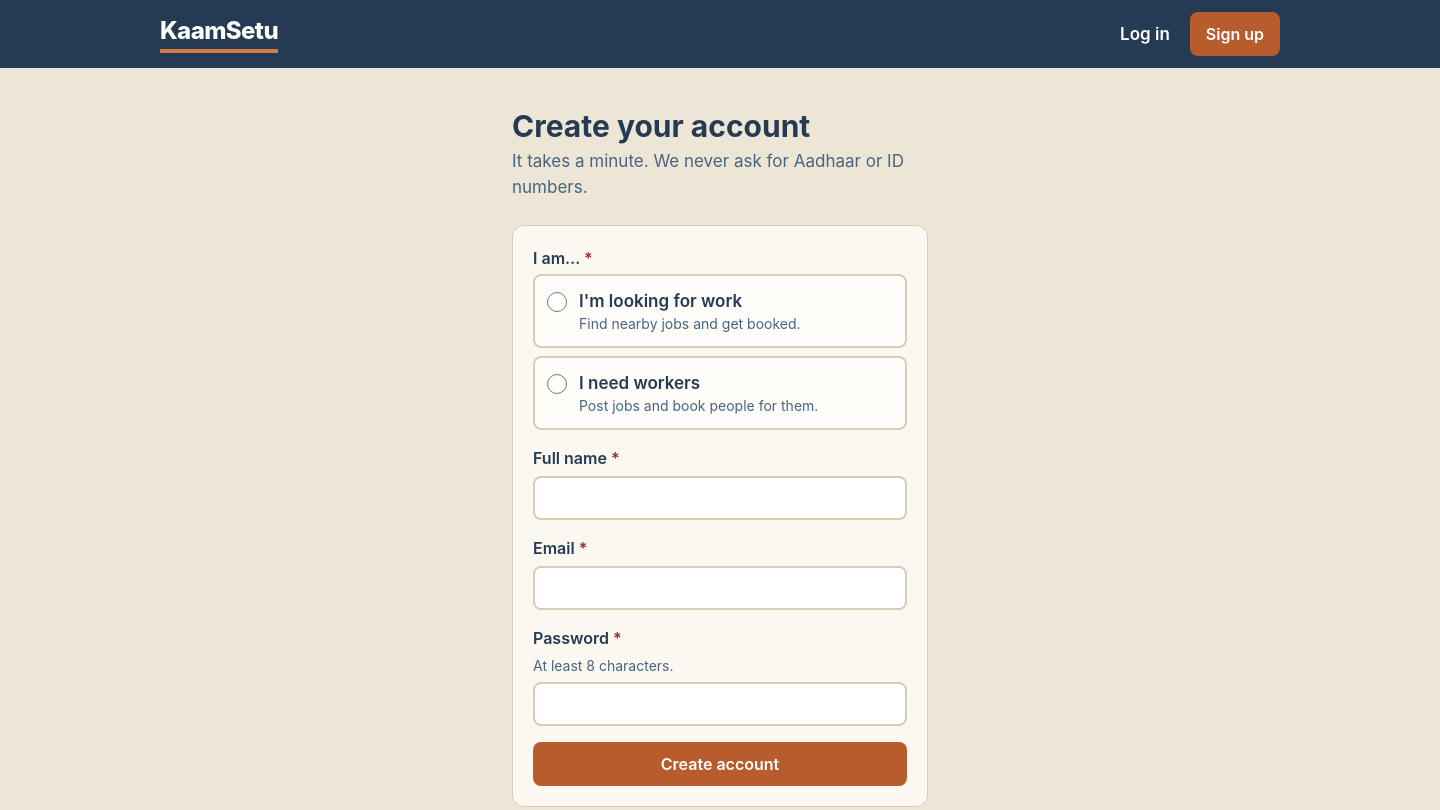
Test: sign-up › sends the chosen role and name as signup metadata and asks the user to confirm their email
Click the radio button labelled "I'm looking for work Find nearby jobs and get booked.": (557, 302) [547, 292, 567, 312]
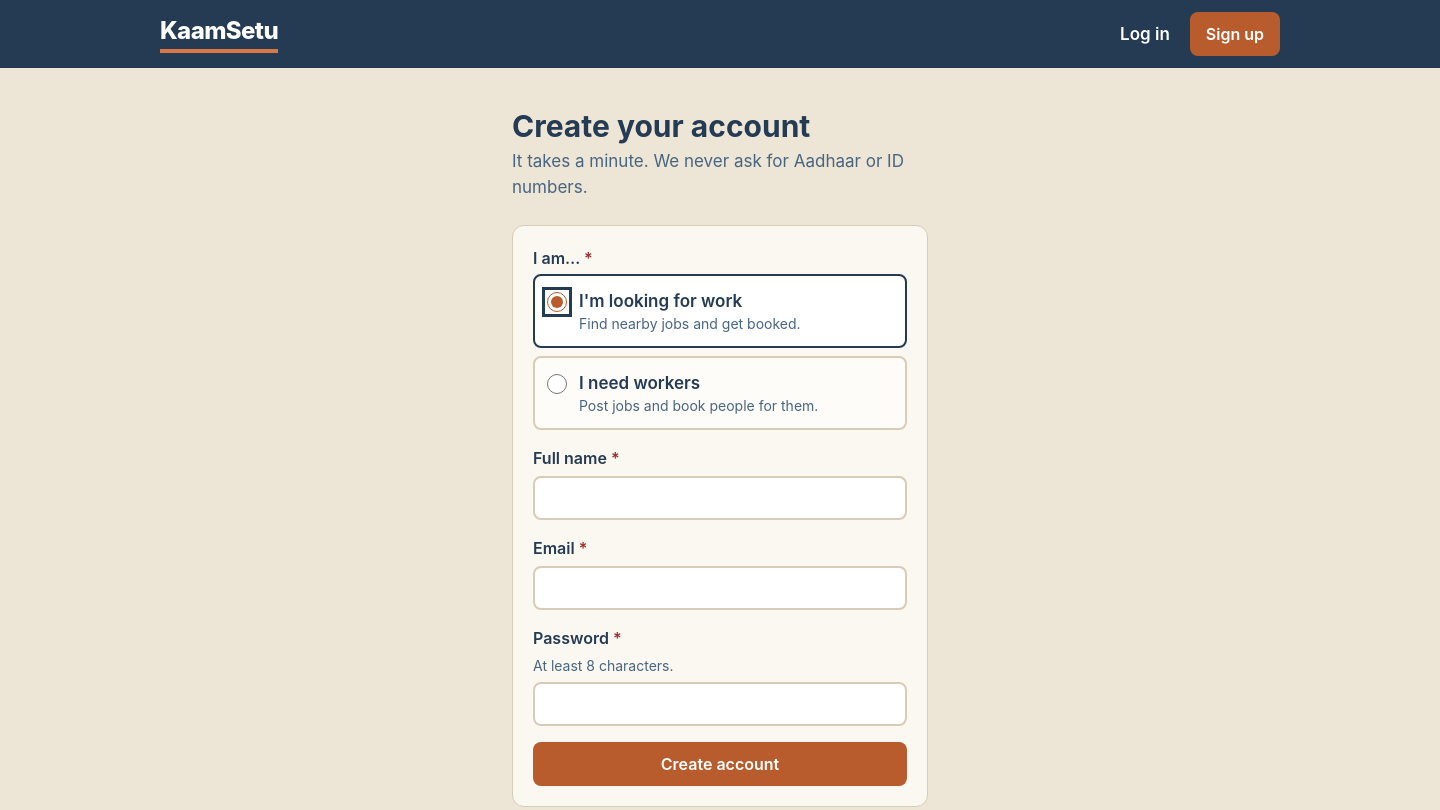
In the field labelled "Full name *": (720, 498) [533, 476, 907, 520], type "Ravi Patel"
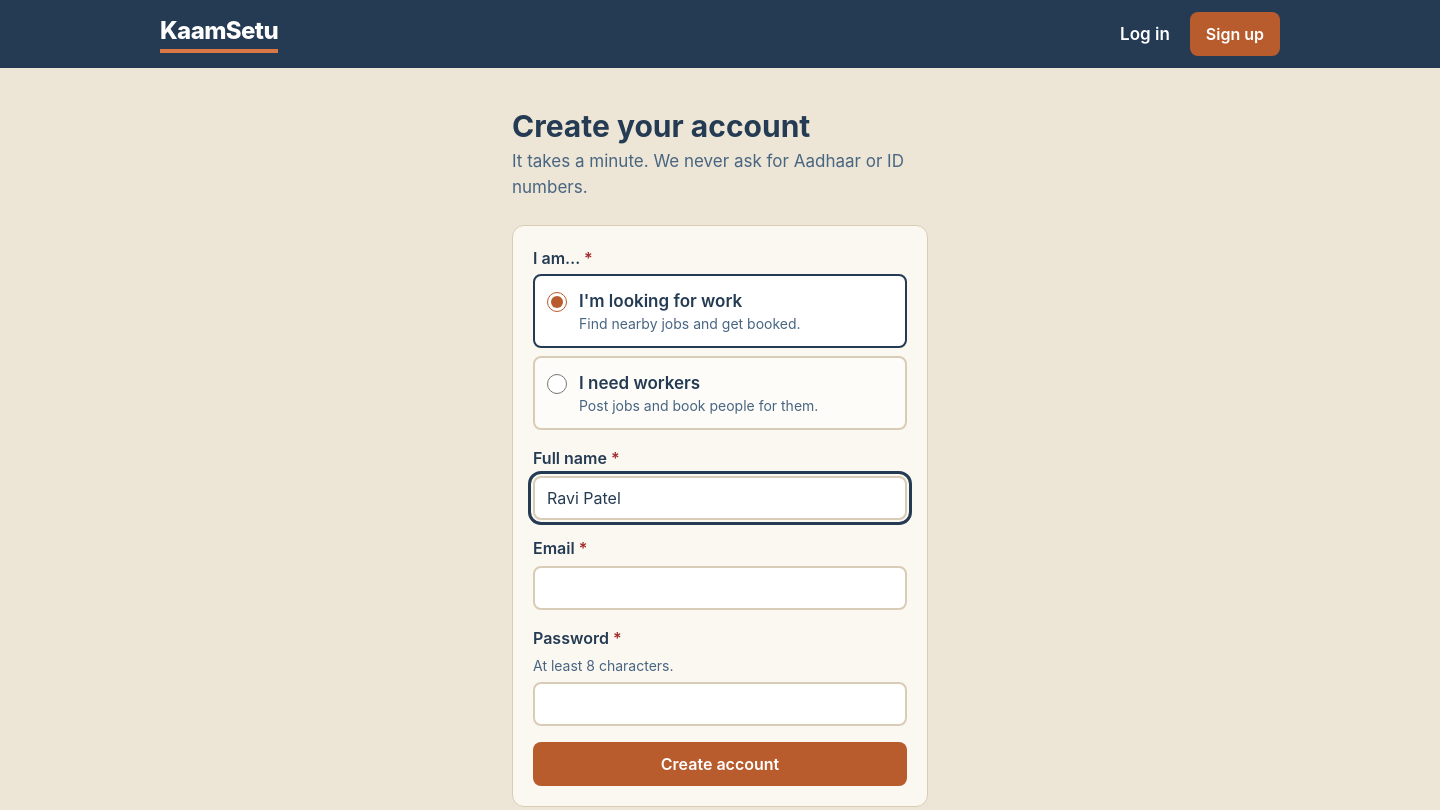
In the field labelled "Email *": (720, 588) [533, 566, 907, 610], type "ravi@example.com"
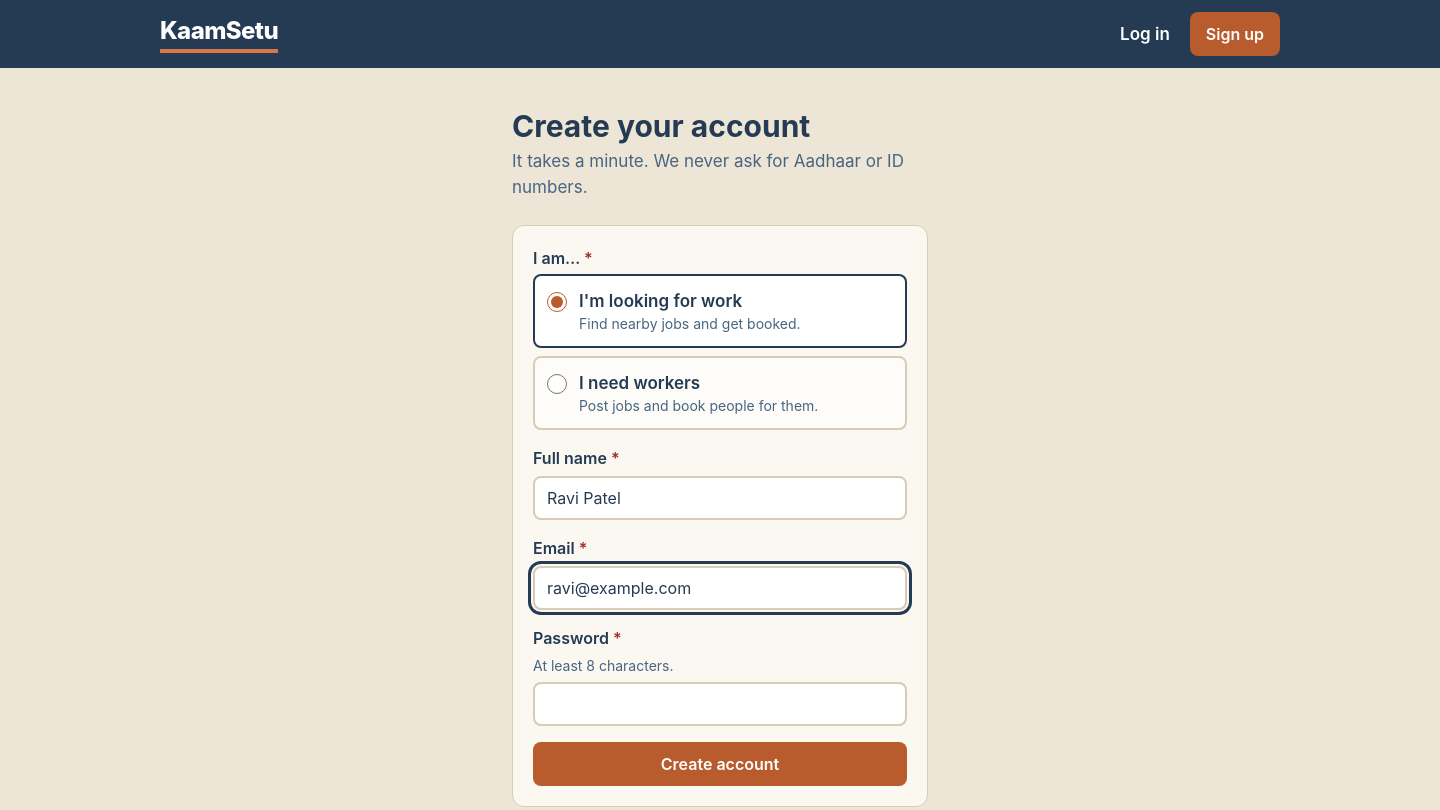
In the password field labelled "Password *": (720, 704) [533, 682, 907, 726], type "password123"
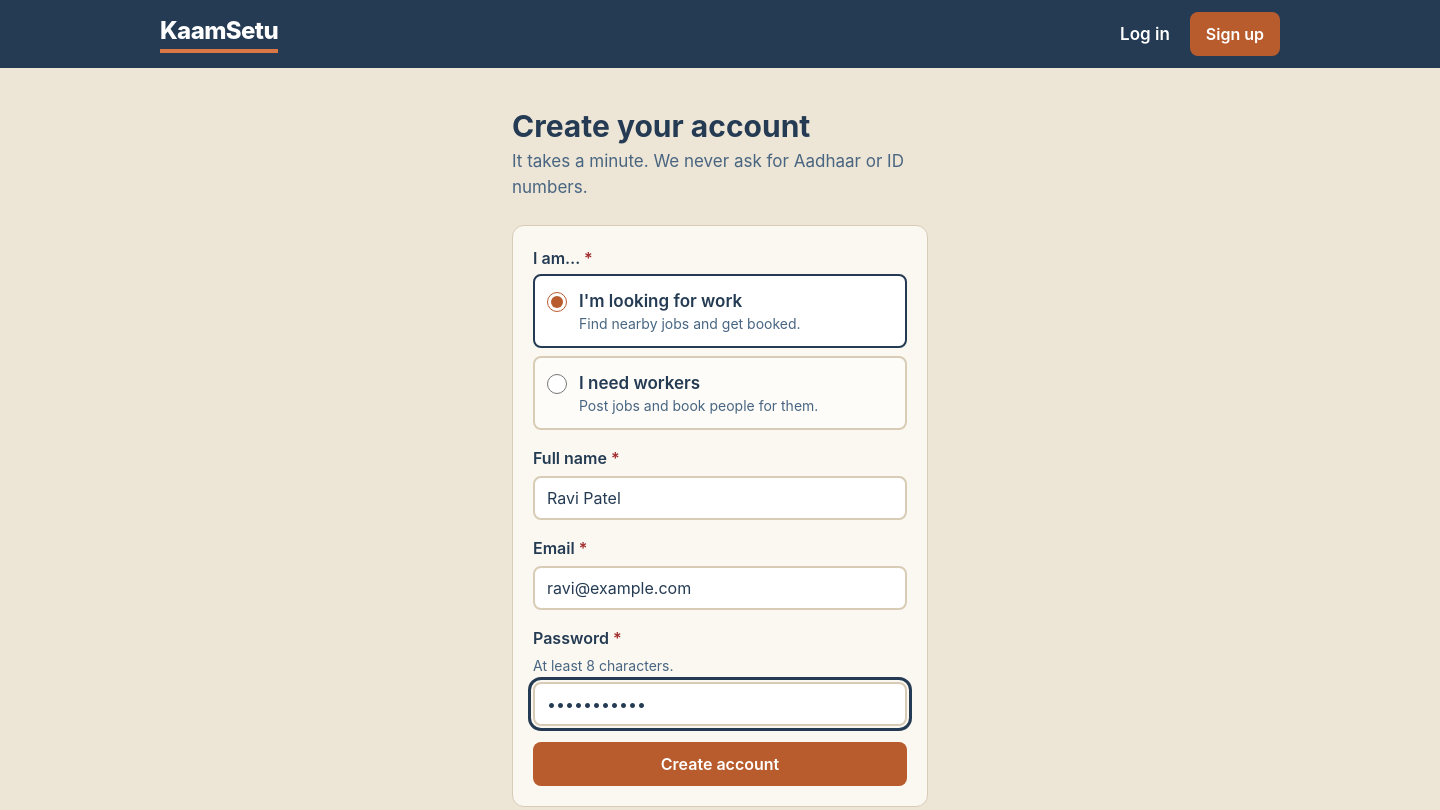
Click the button "Create account": (720, 764) [533, 742, 907, 786]
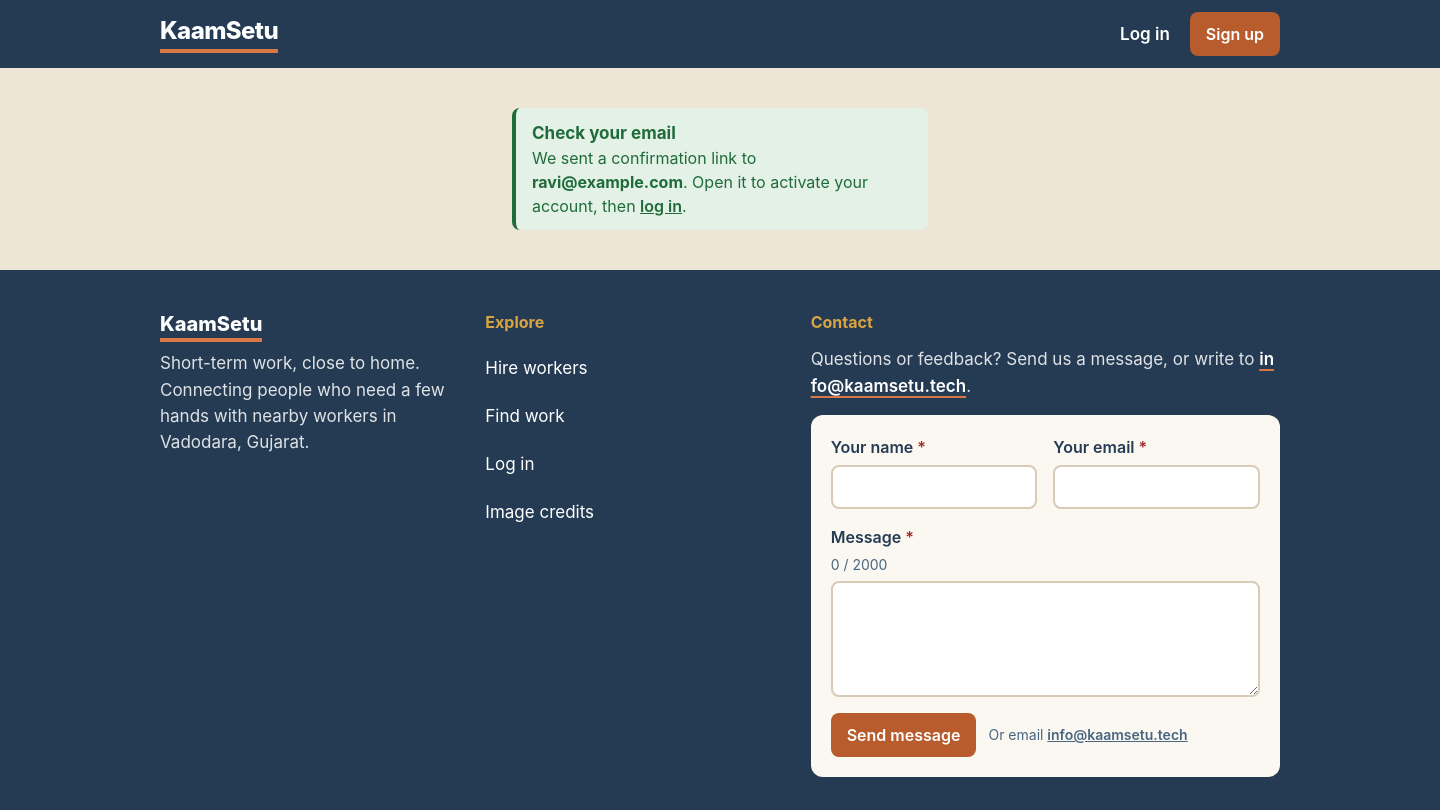
Expected: the text "Check your email" is shown, [532, 123, 676, 143]
Expected: the text "ravi@example.com" is shown, [532, 172, 683, 192]
